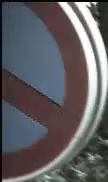No waiting: (4, 4, 95, 170)
